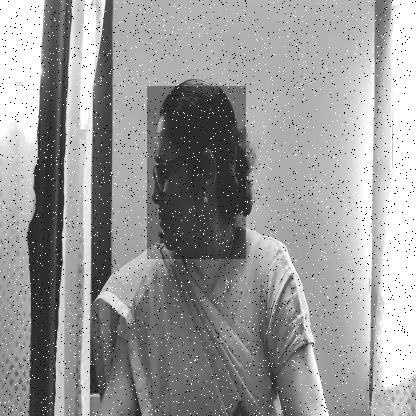Distracted: (147, 86, 246, 259)
